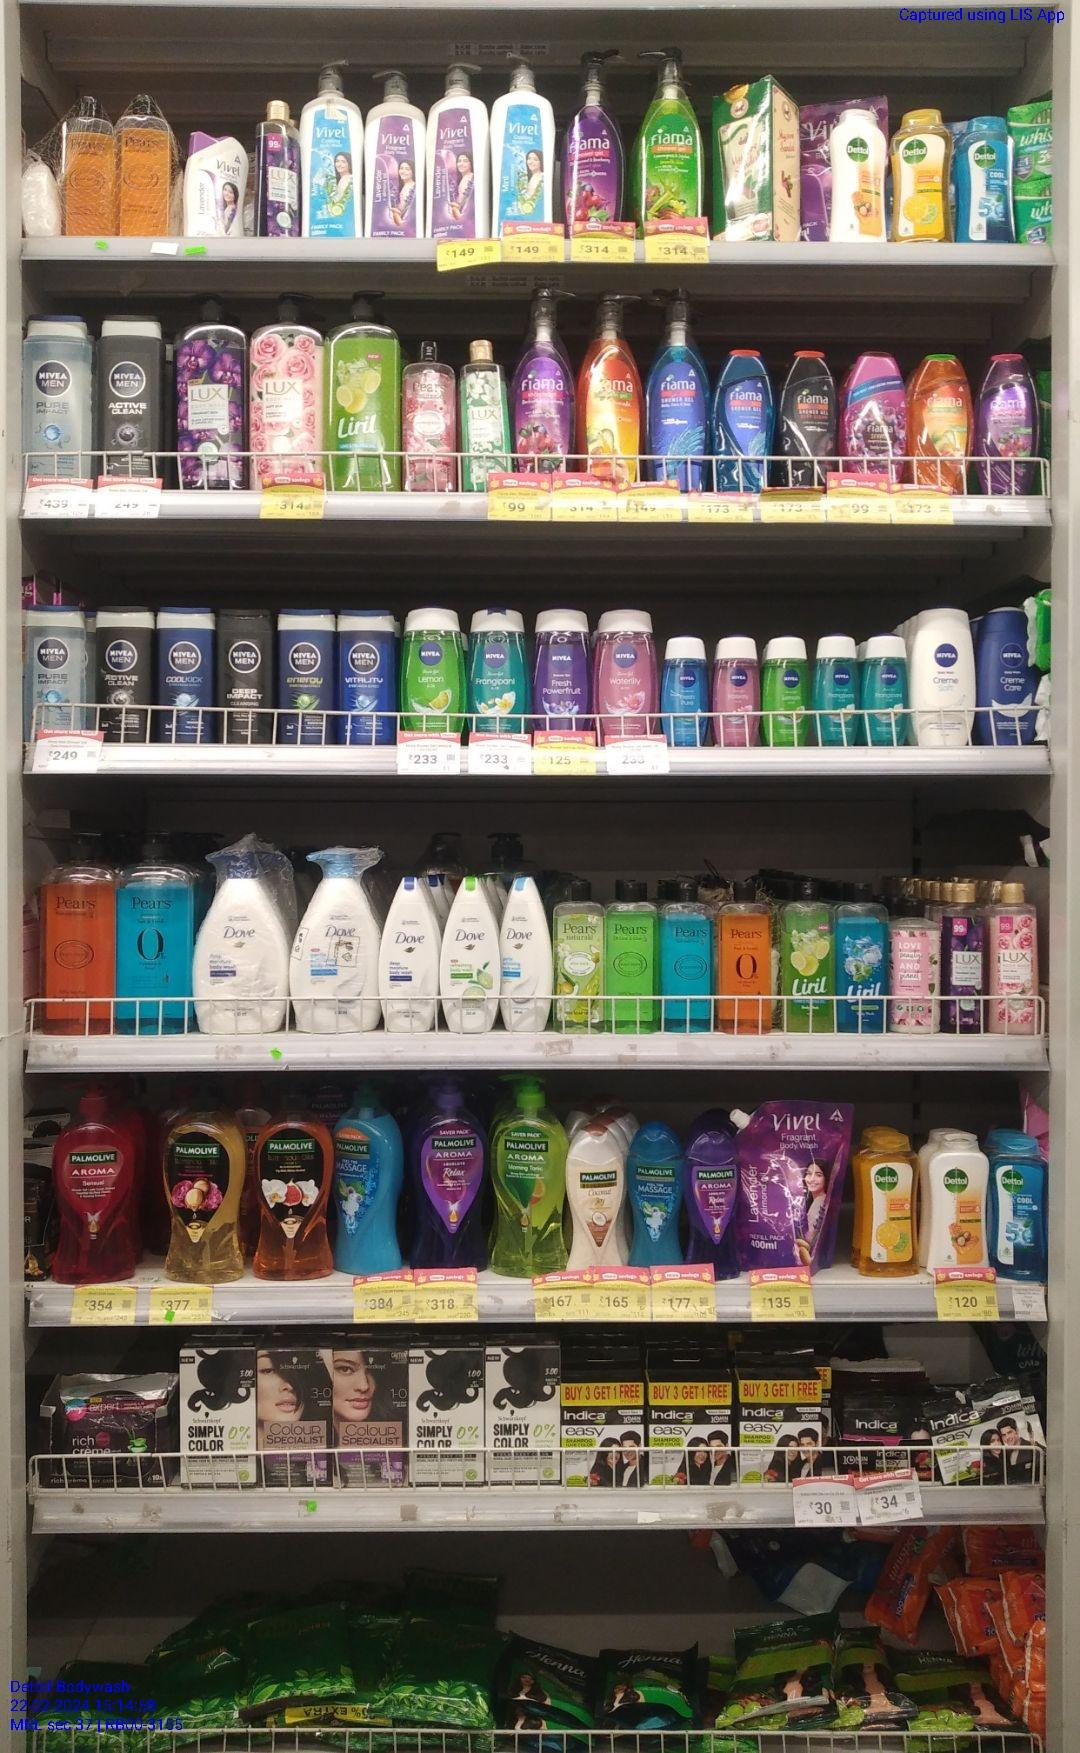Dettol_Bodywash_Cool: (995, 1136, 1047, 1283), (957, 116, 1015, 243)
Dettol_Bodywash_Refresh: (861, 1134, 924, 1278), (891, 106, 954, 244)
Dettol_Nourish_Body_Wash_250ML: (831, 105, 890, 245), (929, 1134, 989, 1267)
Dove_Gentle_Exfoliating_Body_Wash_250ML: (380, 878, 437, 1037), (507, 865, 551, 1033)
Dove_Refreshing_Body_Wash_250ML: (442, 875, 494, 1036)
Fiama_Shower_Gel_Peach_and_Avocado_250ML: (910, 354, 972, 493)
Lux_Black_Orchid_Scent_and_Juniper_Oil_Body_Wash_245ML: (945, 882, 987, 1037), (258, 90, 302, 237)
Lux_Body_Wash_Skin_Detox_Freesia_Scent_and_Alove_Vera_245ML: (458, 339, 511, 476)
Nivea_Shower_Gel_Frangipani_and_Oil_250ML: (471, 599, 529, 734)
Nivea_Shower_Gel_Fresh_Powerfruit_250ML: (536, 605, 588, 730)
Nivea_Shower_Gel_Lemon_and_Oil_250ML: (407, 604, 467, 734)
Nivea_Shower_Gel_Waterlily_and_Oil_250ML: (592, 606, 657, 730)
Palmolive_Aroma_Moments_Feel_The_Massage_Shower_Gel_250ML: (628, 1133, 682, 1266)
Palmolive_Aroma_Relax_250ML: (686, 1131, 737, 1261)
Palmolive_Coconut_Joy_Exfoliating_Body_Wash_250ML: (567, 1127, 622, 1268)
Pears_Naturale_Aloe_Vera_Body_Wash_250ML: (549, 879, 603, 1034)
